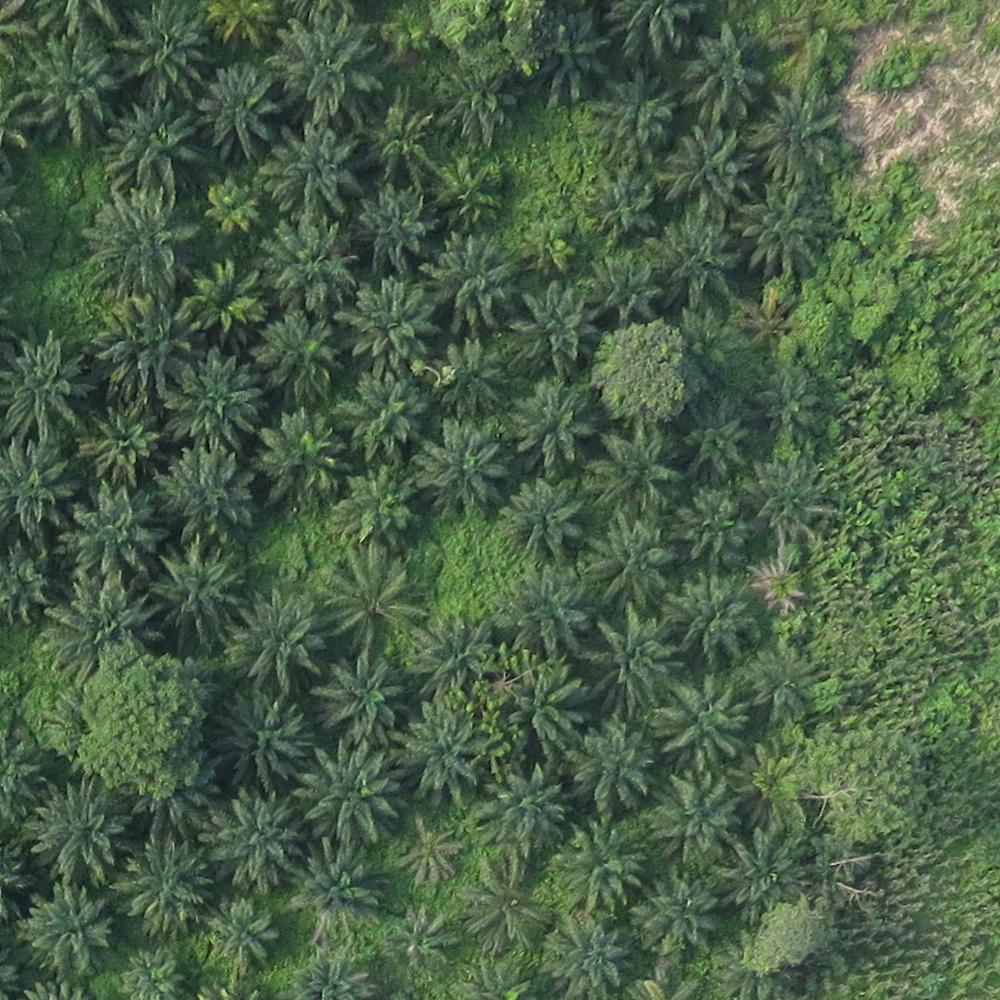Palm: (264, 14, 388, 121), (92, 296, 203, 401), (87, 193, 198, 297), (294, 742, 404, 844), (1, 333, 102, 444), (48, 573, 155, 673), (414, 416, 516, 519), (32, 779, 134, 880), (149, 543, 247, 648), (206, 790, 307, 891), (587, 605, 682, 712), (202, 693, 306, 790), (397, 699, 488, 808), (65, 481, 162, 582), (110, 97, 207, 197), (157, 447, 255, 544), (500, 375, 602, 468), (429, 232, 527, 328), (341, 281, 438, 377), (265, 124, 364, 218), (286, 842, 385, 936), (494, 564, 596, 654), (261, 216, 356, 312), (23, 886, 120, 980), (255, 410, 348, 507), (114, 5, 210, 98), (167, 355, 263, 448), (560, 725, 660, 814), (658, 677, 751, 772), (656, 126, 750, 219), (502, 660, 591, 758), (1, 438, 83, 544), (535, 913, 638, 997), (231, 594, 323, 688), (312, 656, 407, 747), (740, 186, 832, 277), (197, 63, 285, 158), (647, 773, 739, 863), (116, 843, 210, 931), (28, 32, 112, 129), (558, 818, 648, 908), (588, 427, 678, 517), (585, 516, 671, 610), (255, 314, 347, 401), (752, 93, 845, 179), (671, 30, 761, 118), (349, 181, 435, 273), (408, 614, 504, 695), (720, 828, 808, 916), (653, 221, 744, 306), (590, 73, 674, 164), (356, 93, 438, 186), (667, 577, 757, 661), (186, 261, 273, 347), (668, 482, 756, 567), (744, 454, 831, 539), (482, 762, 570, 845), (494, 484, 588, 560), (340, 377, 428, 457), (511, 285, 598, 365), (84, 406, 170, 485), (423, 339, 510, 414), (639, 876, 722, 954), (340, 466, 416, 546), (747, 363, 831, 434), (590, 251, 668, 326), (432, 151, 505, 230), (202, 905, 280, 976), (684, 405, 756, 477), (386, 907, 458, 976), (582, 168, 656, 234)
